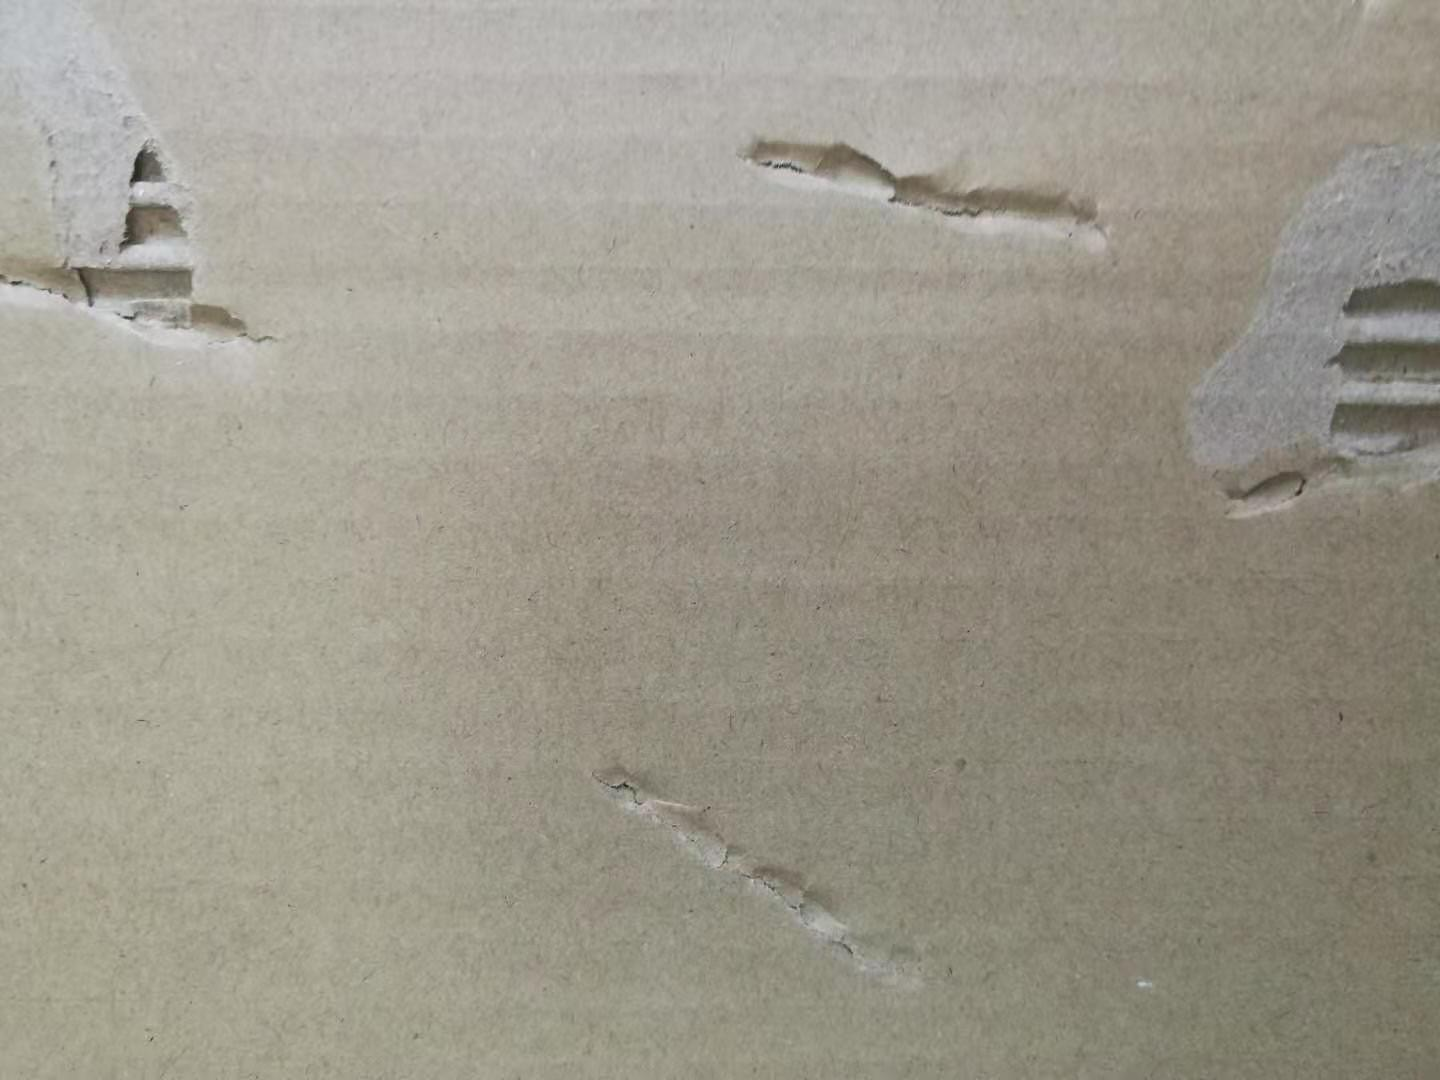defect: (5, 5, 324, 404), (1166, 109, 1440, 541), (568, 728, 968, 1015), (715, 95, 1150, 288)
